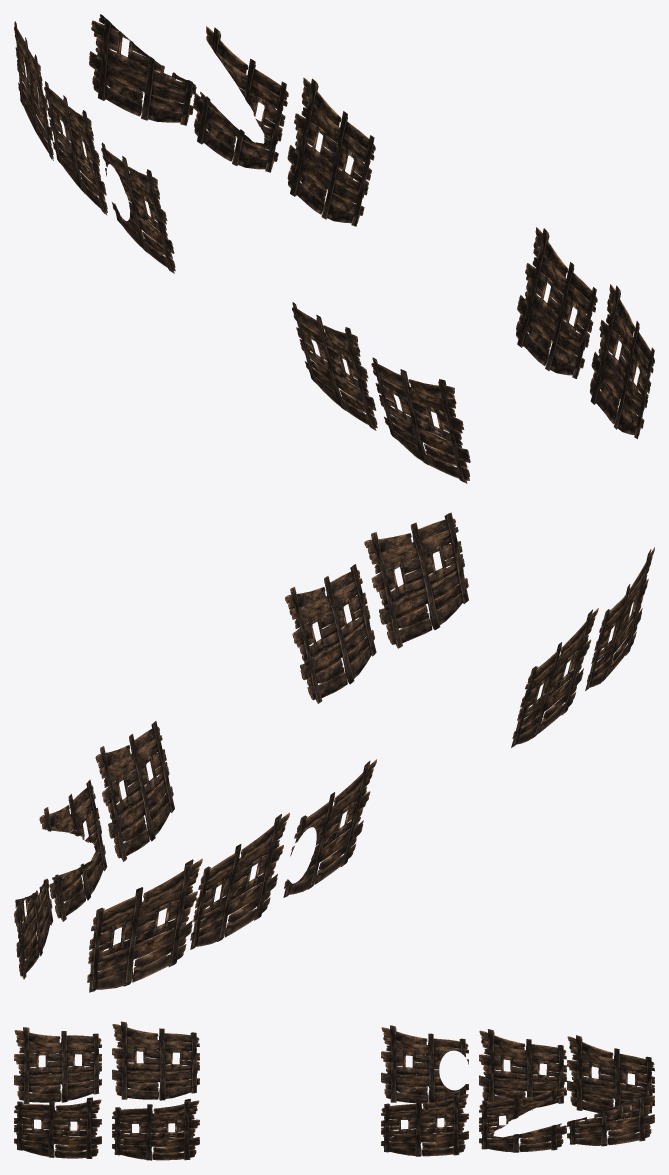
Rendered from fitted-hull.glb.
The picture shows the model from 3 angles, top to bottom: view 1: azimuth 30°, elevation 25°; view 2: azimuth 150°, elevation 25°; view 3: azimuth 270°, elevation 25°; orthographic projection. The views are drawn at different scales.
Visible parts, largest first — view 1: Fitted_hull_LOD0; view 2: Fitted_hull_LOD0; view 3: Fitted_hull_LOD0.
Boxes of the visible parts, <box> form: Fitted_hull_LOD0: <box>14,14,654,483</box>; Fitted_hull_LOD0: <box>14,512,654,992</box>; Fitted_hull_LOD0: <box>14,1021,654,1160</box>.
Size of what is drawn, in the model's own units: 37.53 by 16 by 131.
1 material, 1 textured.
